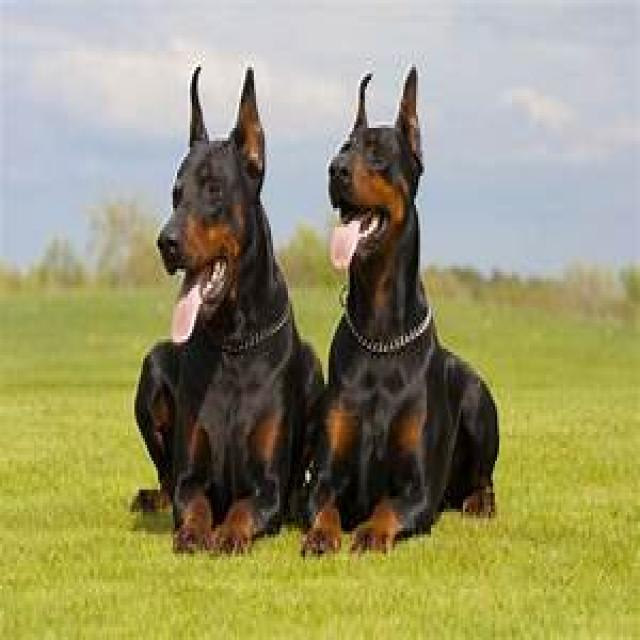dog: (302, 70, 498, 550), (133, 68, 325, 552)
